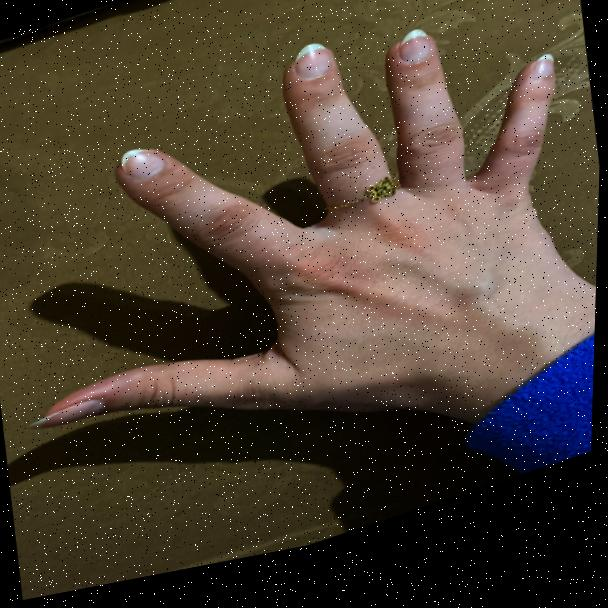five: (0, 0, 607, 524)
